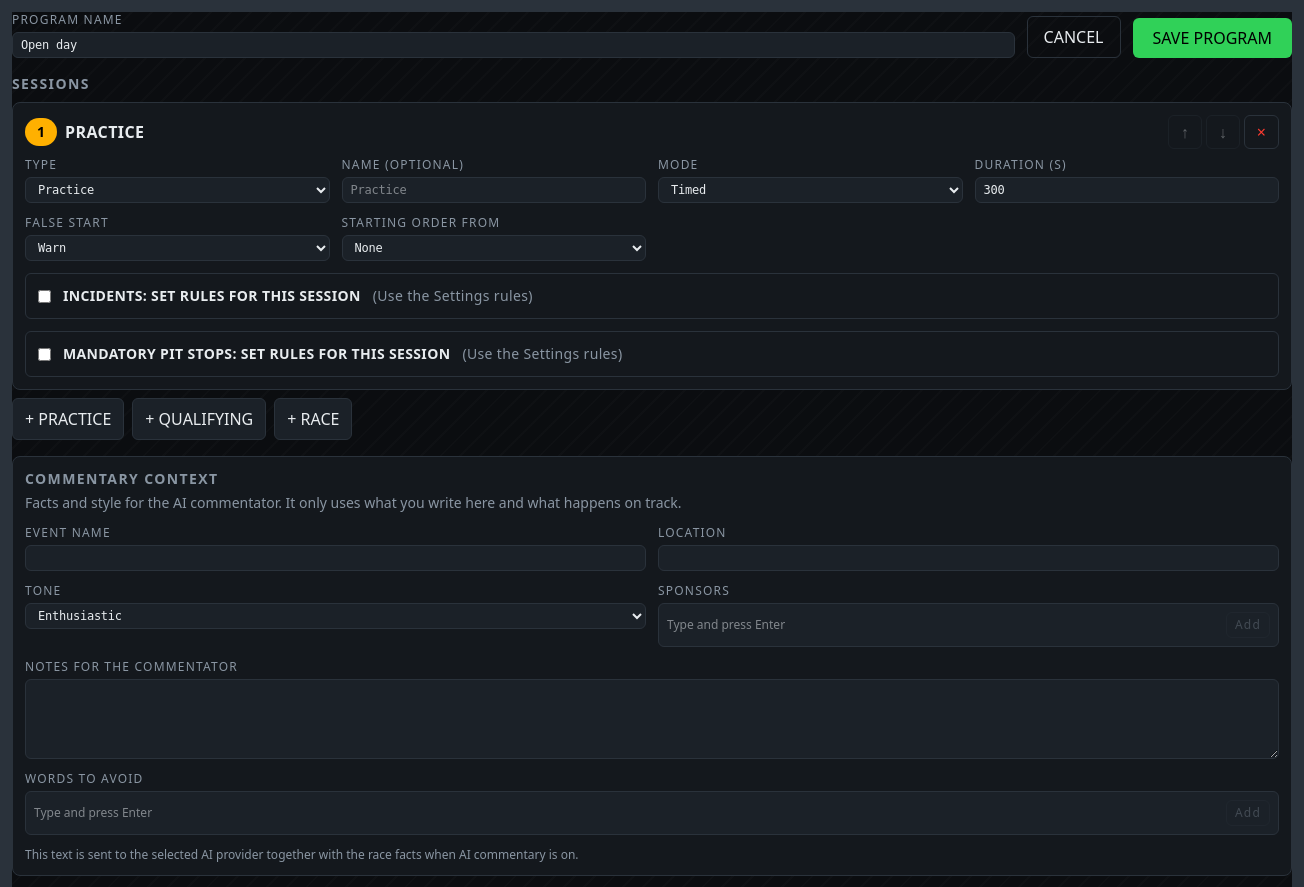
it: rules per session › inherits by default, overrides from the Settings values and goes back to inherit
Check: the text "(Use the Settings rules)" in the row of "Incidents" is shown, box [377,286,528,305]
Click the checkbox with test id "override-incidents" at (44, 296), box [38,290,51,302]
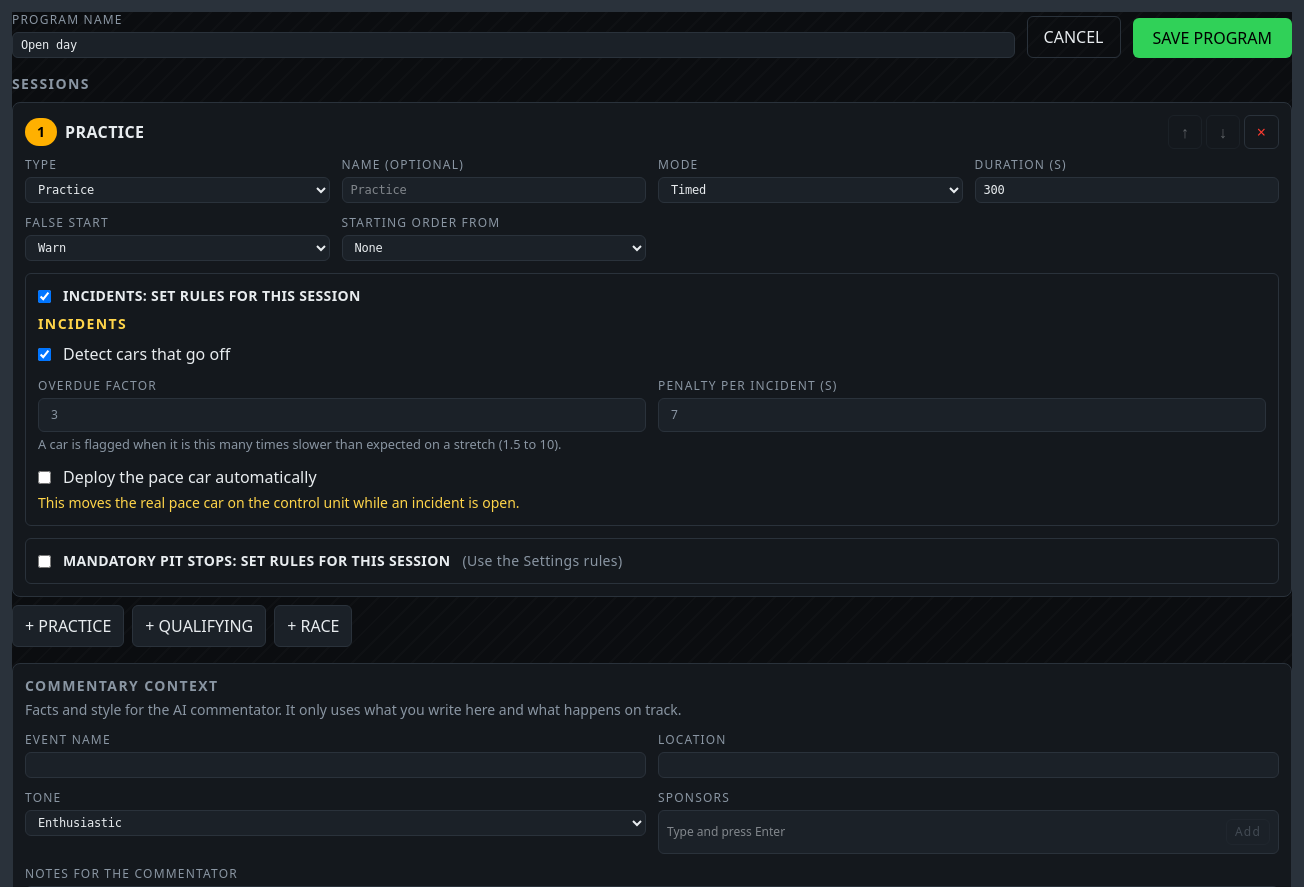
Check: the number field with test id "rules-factor" holds "3"
Check: the number field with test id "rules-incident-penalty" holds "7", box [658,398,1266,432]
Replace the text in the number field with test id "rules-factor" with "5" at (342, 415), box [38,398,646,432]
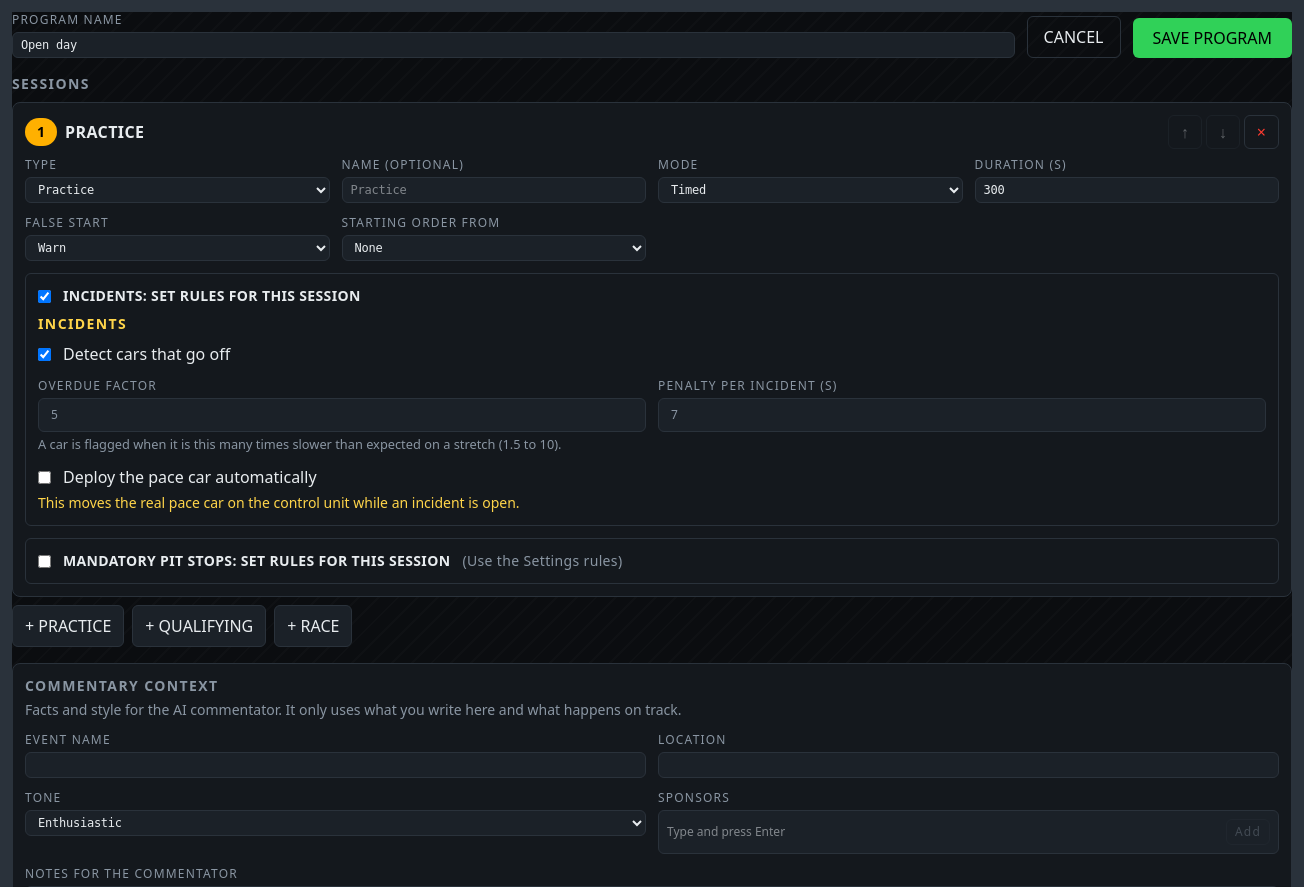
Click the checkbox with test id "override-pits" at (44, 561), box [38,554,51,568]
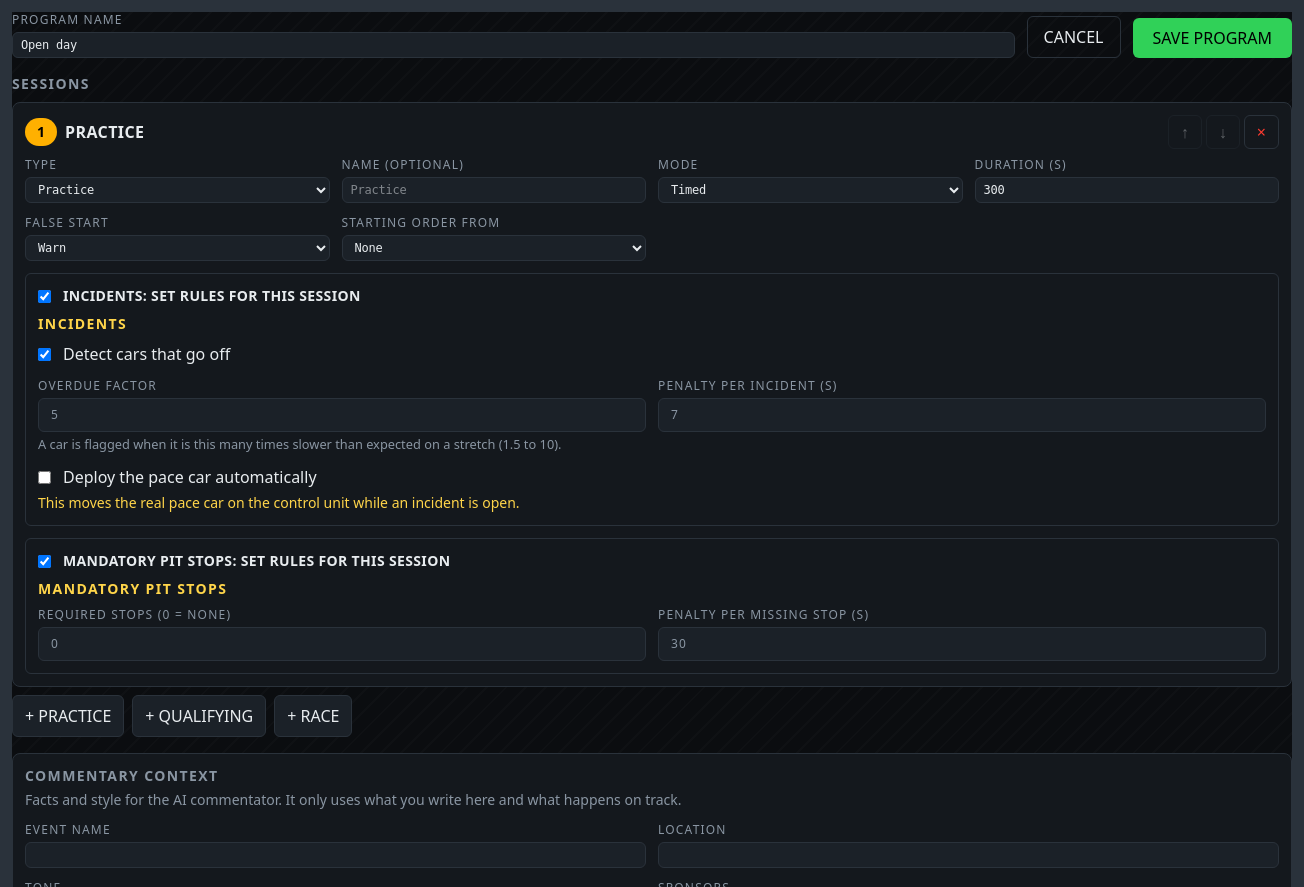
Replace the text in the number field with test id "rules-min-stops" with "1" at (342, 644), box [38,627,646,661]
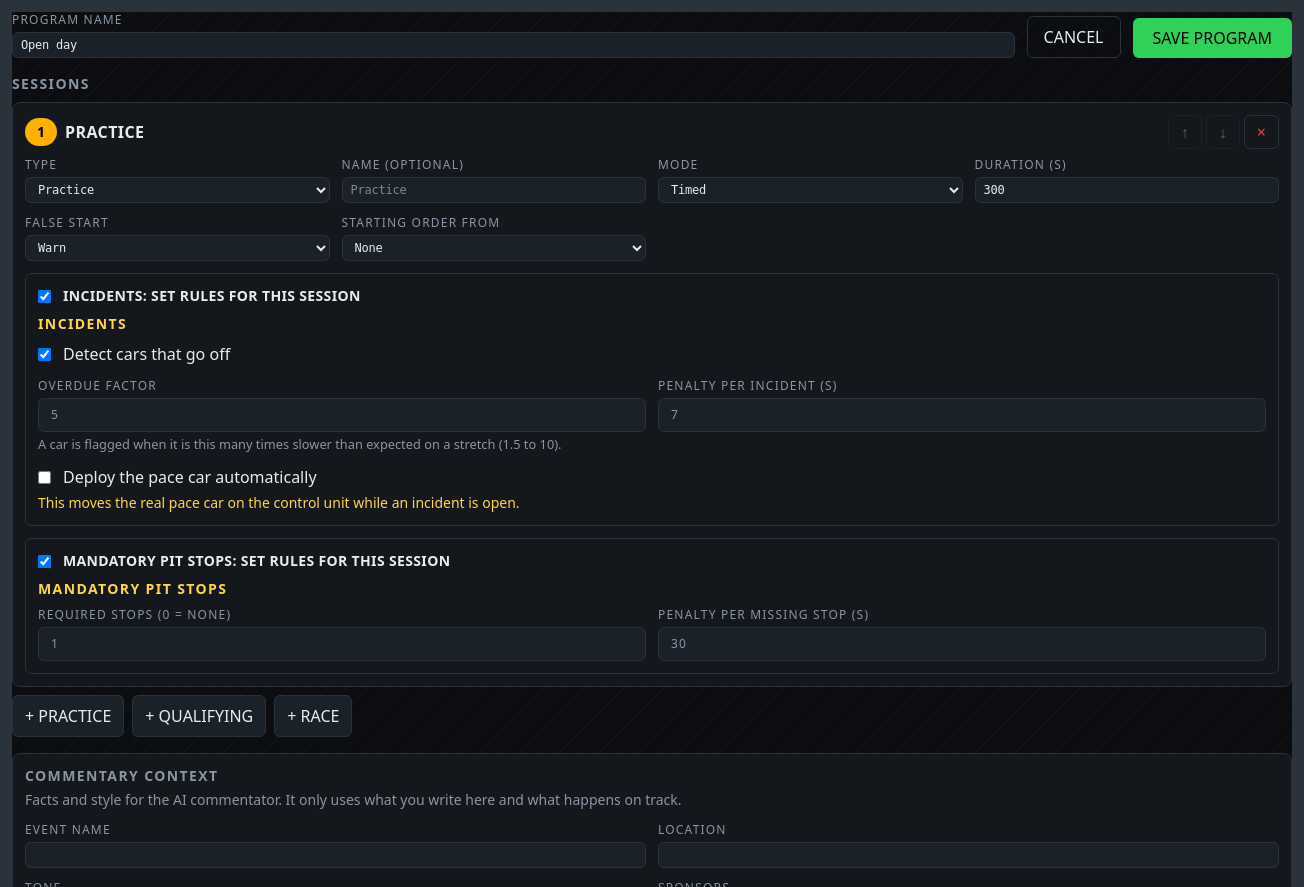
Click the checkbox with test id "override-incidents" at (44, 296), box [38,290,51,302]
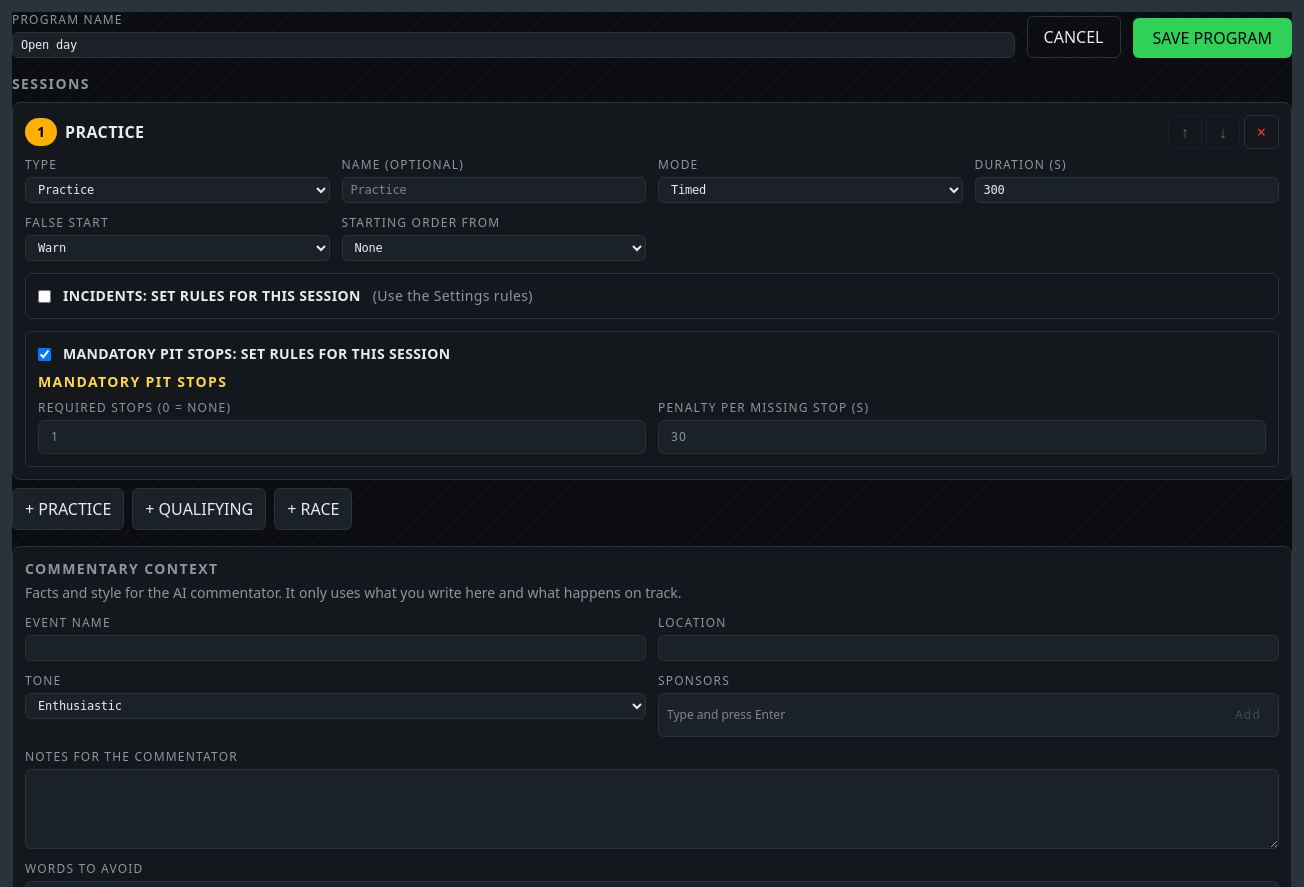
Check: the element with test id "incident-rules" is gone
